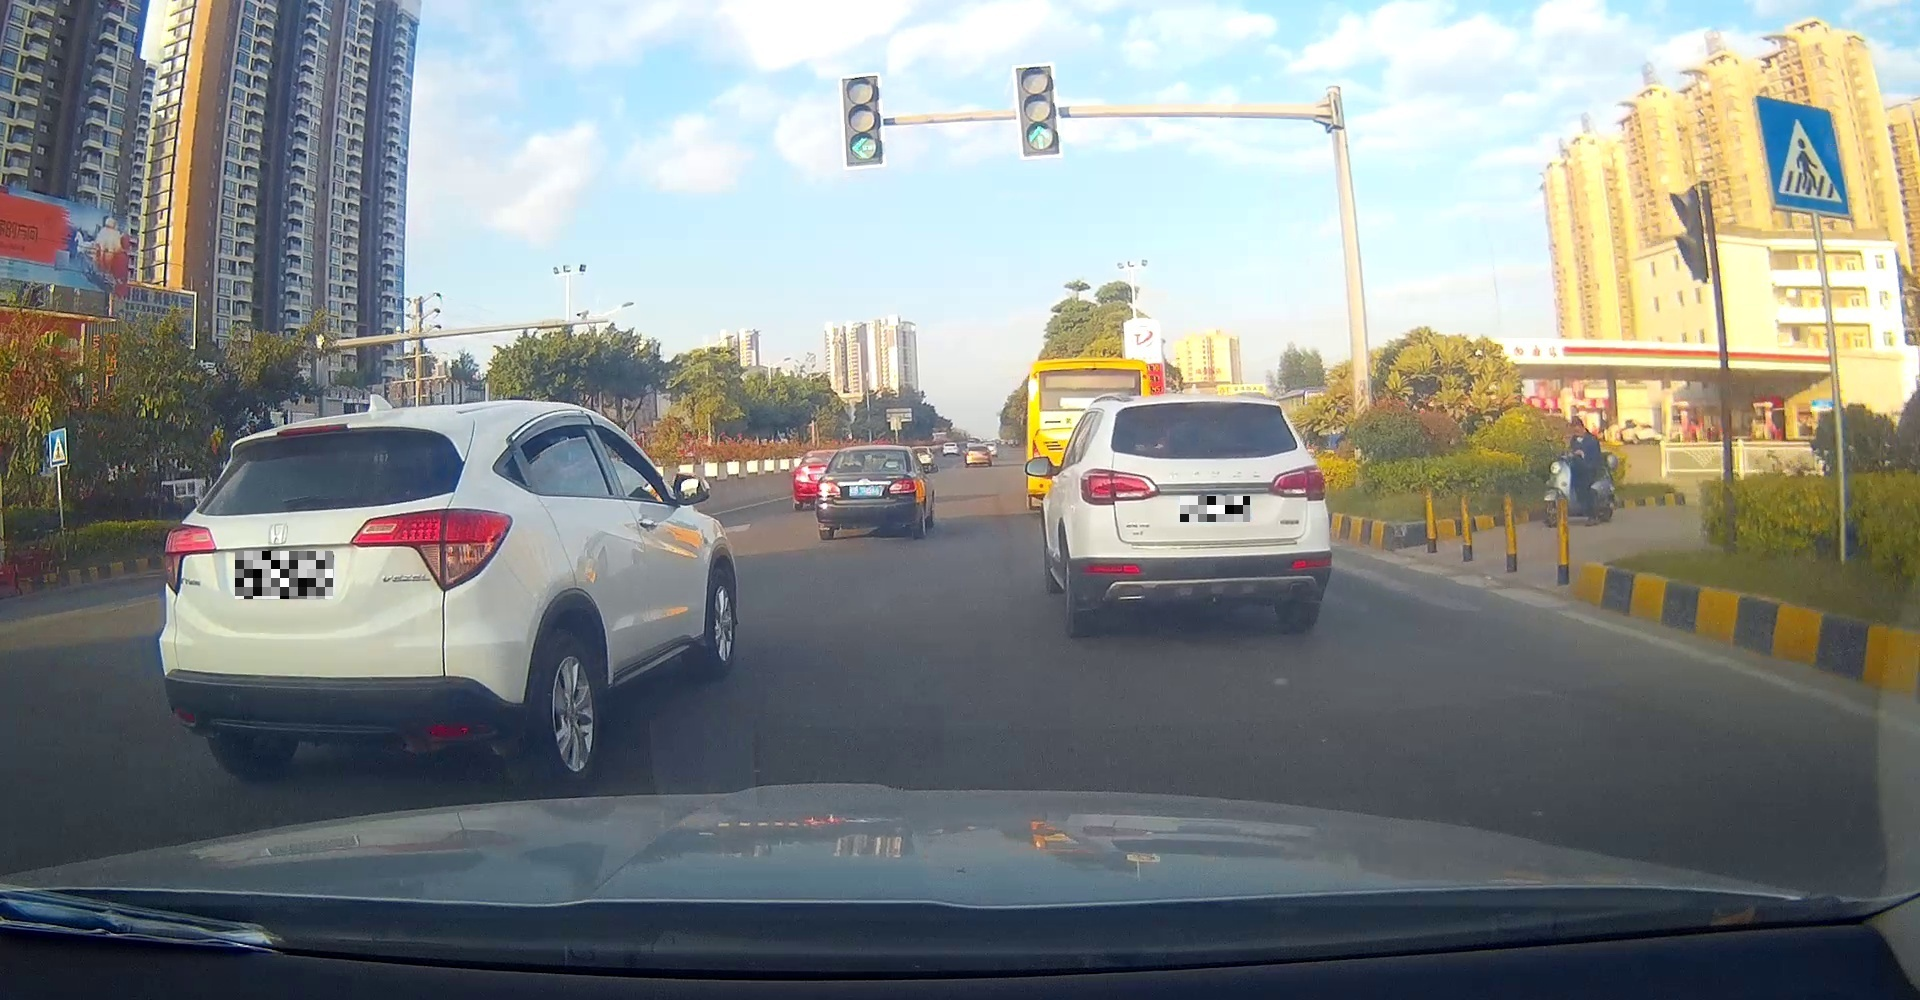L_light: (164, 523, 217, 596), (1079, 468, 1161, 505), (817, 481, 841, 496)
R_light: (349, 508, 513, 591), (1269, 464, 1326, 501), (888, 478, 918, 494)
T_light: (276, 423, 349, 437), (1183, 404, 1241, 409), (861, 470, 874, 472)
day-no: (157, 411, 521, 798), (1070, 392, 1332, 638), (815, 445, 921, 541)
plate_1: (235, 551, 333, 599)
plate_2: (1180, 496, 1250, 522)
